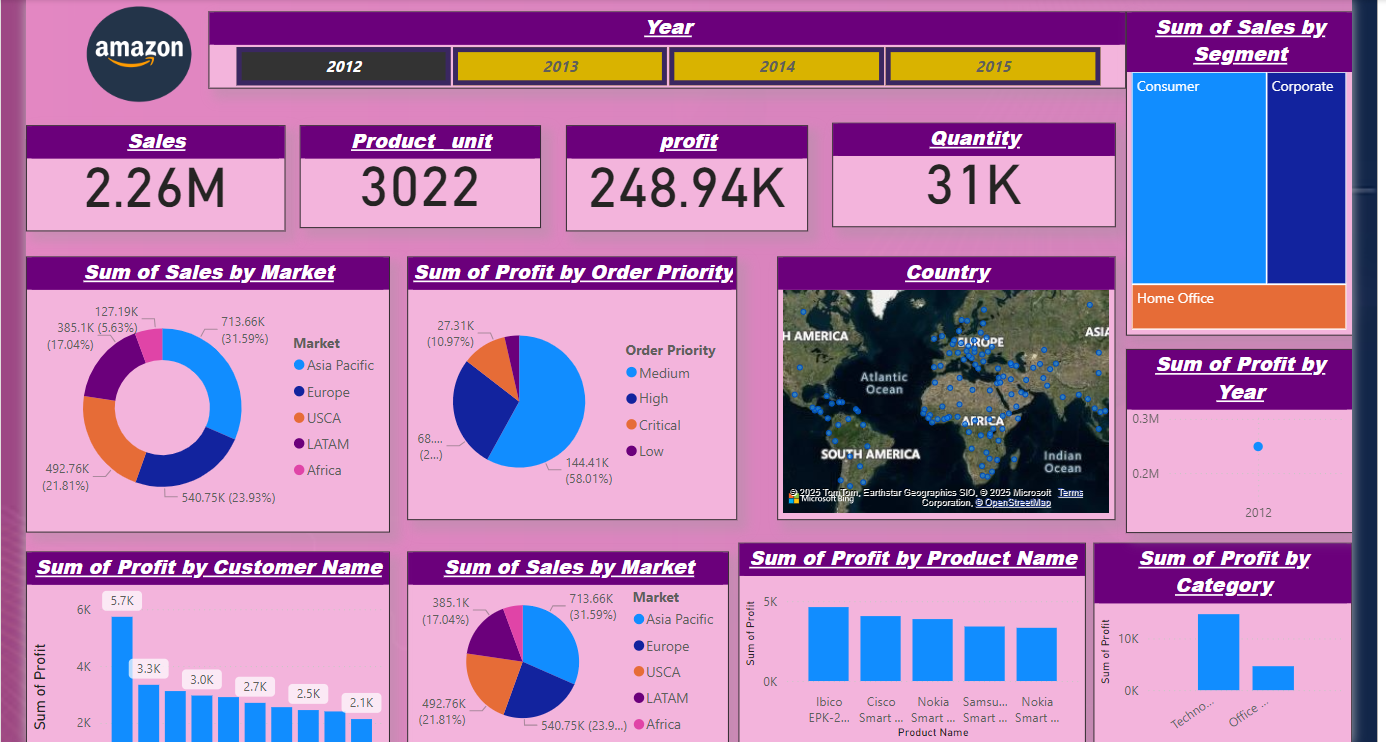

This screenshot's page, from the dashboard's own definition file:
{"tool":"powerbi","page":{"name":"Page 1","canvas":[1350,861],"ordinal":0},"visuals":[{"type":"slicer","title":"Year","fields":{"Values":["Orders.years"]},"box":[217.9,0,1118.7,106.7],"z":0},{"type":"card","title":"Sales","fields":{"Values":["Sum(Orders.Sales)"]},"box":[0,121.4,250.1,102.4],"z":1000},{"type":"card","title":"Quantity","fields":{"Values":["Sum(Orders.Quantity)"]},"box":[777.9,119.9,273.5,100.9],"z":2000},{"type":"card","title":"profit ","fields":{"Values":["Sum(Orders.Profit)"]},"box":[520.6,121.4,234,102.4],"z":3000},{"type":"card","title":"Product_ unit","fields":{"Values":["Count(Orders.Product ID)"]},"box":[264.7,121.4,232.5,99.4],"z":4000},{"type":"image","box":[0,1.5,217.9,106.7],"z":5000},{"type":"pieChart","fields":{"Category":["Orders.Market"],"Y":["Sum(Orders.Sales)"]},"box":[380.2,545.4,307.1,315.9],"z":6000},{"type":"donutChart","fields":{"Y":["Sum(Orders.Sales)"],"Category":["Orders.Market"]},"box":[0,248.6,351,266.1],"z":7000},{"type":"lineClusteredColumnComboChart","fields":{"Category":["Orders.Customer Name"],"Y":["Sum(Orders.Profit)"]},"box":[0,533.7,351,327.6],"z":8000},{"type":"pieChart","fields":{"Category":["Orders.Order Priority"],"Y":["Sum(Orders.Profit)"]},"box":[368.5,248.6,318.8,254.4],"z":9000},{"type":"lineClusteredColumnComboChart","fields":{"Category":["Orders.Product Name"],"Y":["Sum(Orders.Profit)"]},"box":[700.4,549.8,333.4,305.6],"z":10000},{"type":"map","fields":{"Category":["Orders.Country"]},"box":[725.3,248.6,326.1,254.4],"z":11000},{"type":"lineClusteredColumnComboChart","fields":{"Y":["Sum(Orders.Profit)"],"Category":["Orders.Category"]},"box":[1051.4,549.8,298.3,311.5],"z":12000},{"type":"treemap","fields":{"Values":["Sum(Orders.Sales)"],"Details":["Orders.Segment"]},"box":[1061.6,133.1,274.9,400.7],"z":13000}]}

Visuals, with their boxes on the page's 1350x861 design canvas (x1, y1, x2, y2). These are canvas units, not pixel positions in the 1386x742 screenshot, which may show the page scaled, cropped or inside an application window:
"Year" slicer: l=218, t=0, r=1337, b=107
"Sales" card: l=0, t=121, r=250, b=224
"Quantity" card: l=778, t=120, r=1051, b=221
"profit " card: l=521, t=121, r=755, b=224
"Product_ unit" card: l=265, t=121, r=497, b=221
image: l=0, t=2, r=218, b=108
pieChart - Orders.Market x Sum(Orders.Sales): l=380, t=545, r=687, b=861
donutChart - Sum(Orders.Sales) x Orders.Market: l=0, t=249, r=351, b=515
lineClusteredColumnComboChart - Orders.Customer Name x Sum(Orders.Profit): l=0, t=534, r=351, b=861
pieChart - Orders.Order Priority x Sum(Orders.Profit): l=368, t=249, r=687, b=503
lineClusteredColumnComboChart - Orders.Product Name x Sum(Orders.Profit): l=700, t=550, r=1034, b=855
map - Orders.Country: l=725, t=249, r=1051, b=503
lineClusteredColumnComboChart - Sum(Orders.Profit) x Orders.Category: l=1051, t=550, r=1350, b=861
treemap - Sum(Orders.Sales) x Orders.Segment: l=1062, t=133, r=1336, b=534
